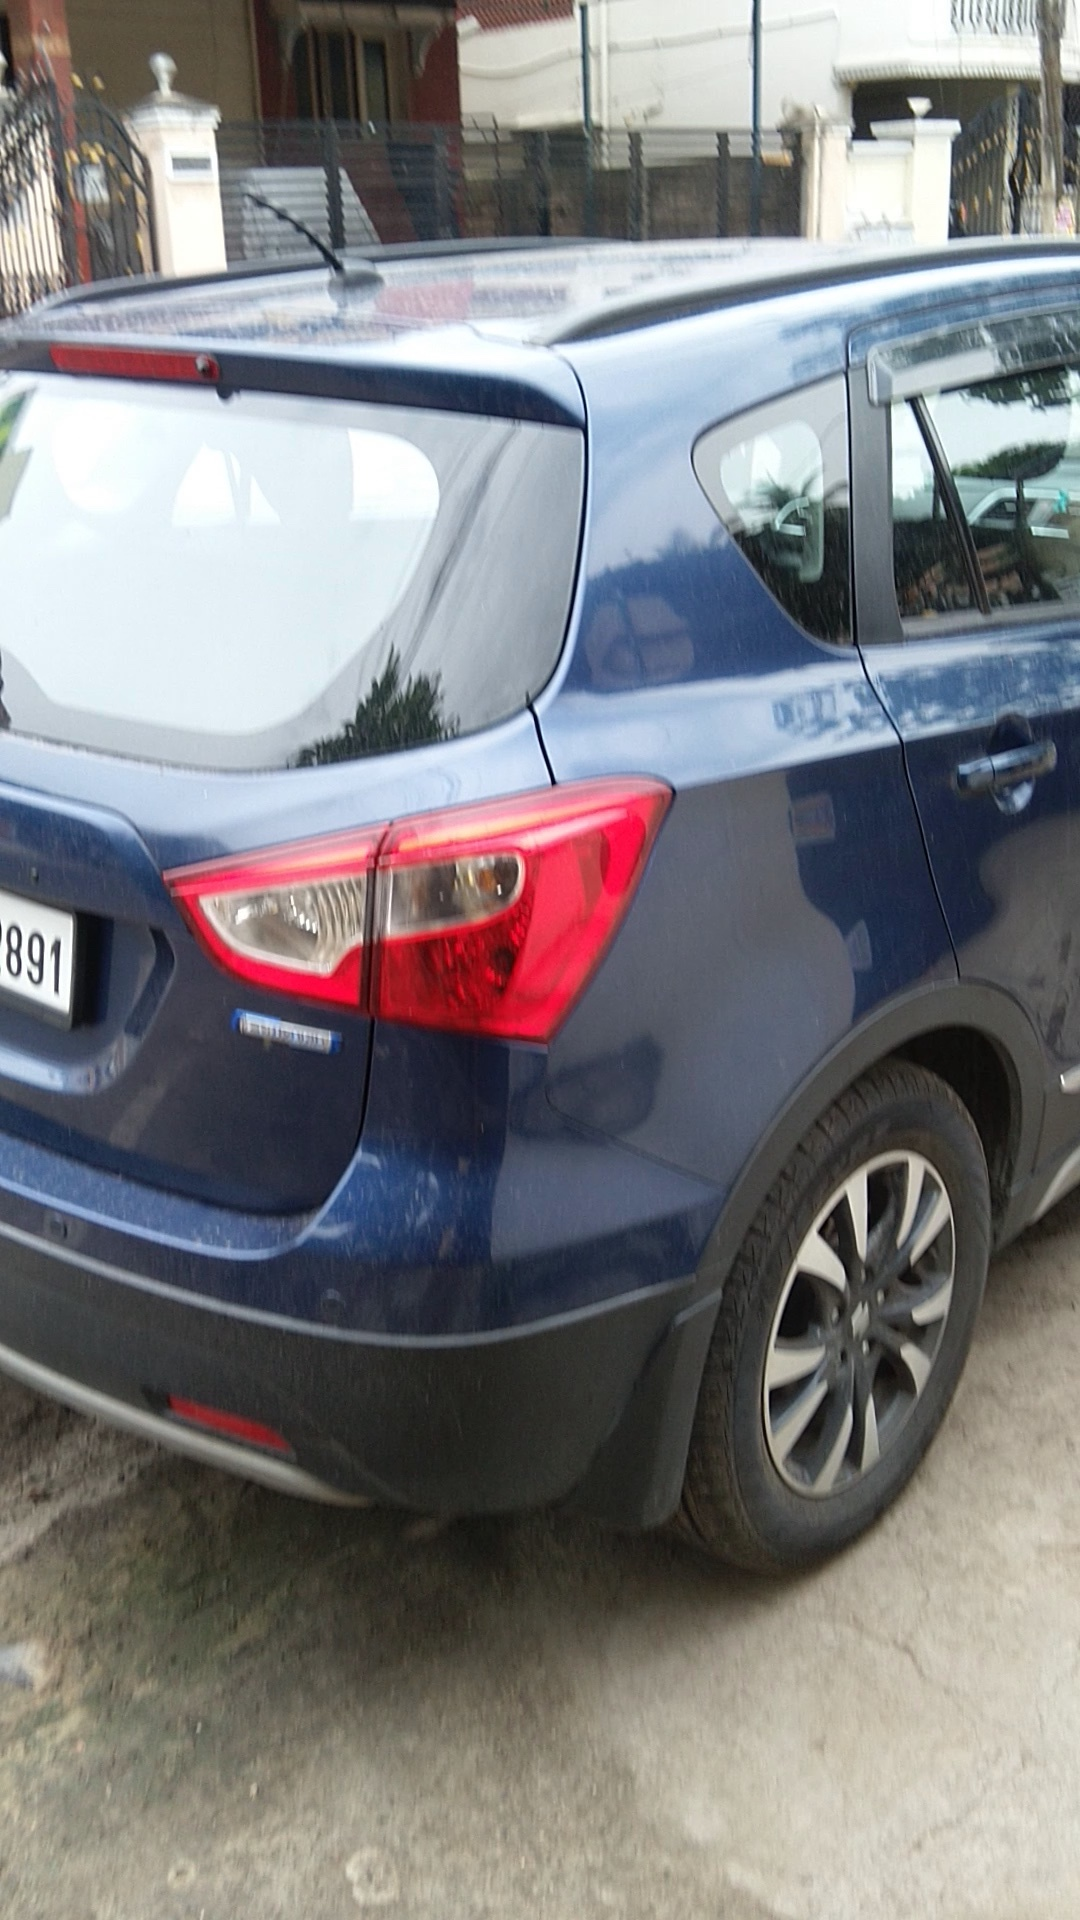alloy_wheel: (684, 1060, 992, 1590)
rear_camera: (175, 349, 224, 390)
shvs: (231, 1000, 356, 1069)
